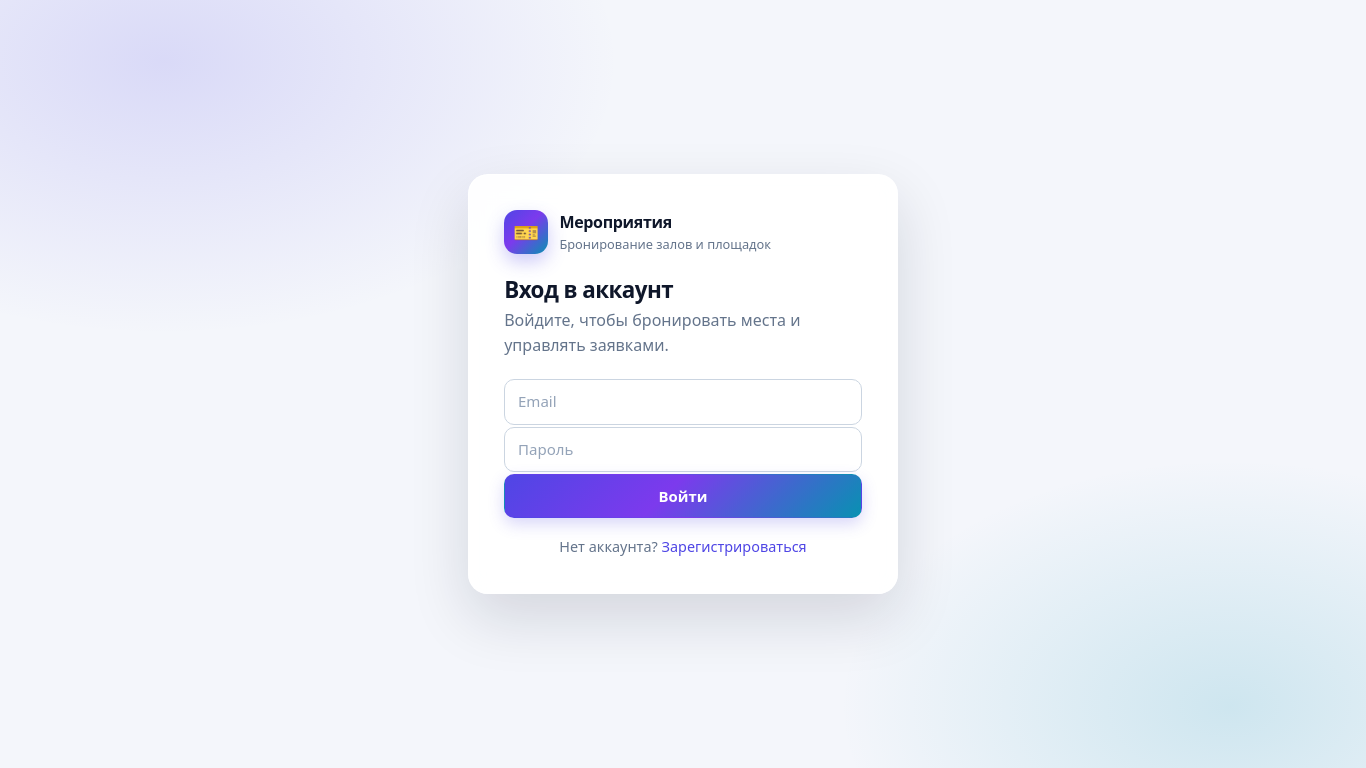
Login › показывает общую ошибку, если сервер не вернул detail
Type "client@example.com" into the field with placeholder "Email" at (683, 402), box [504,380,862,425]
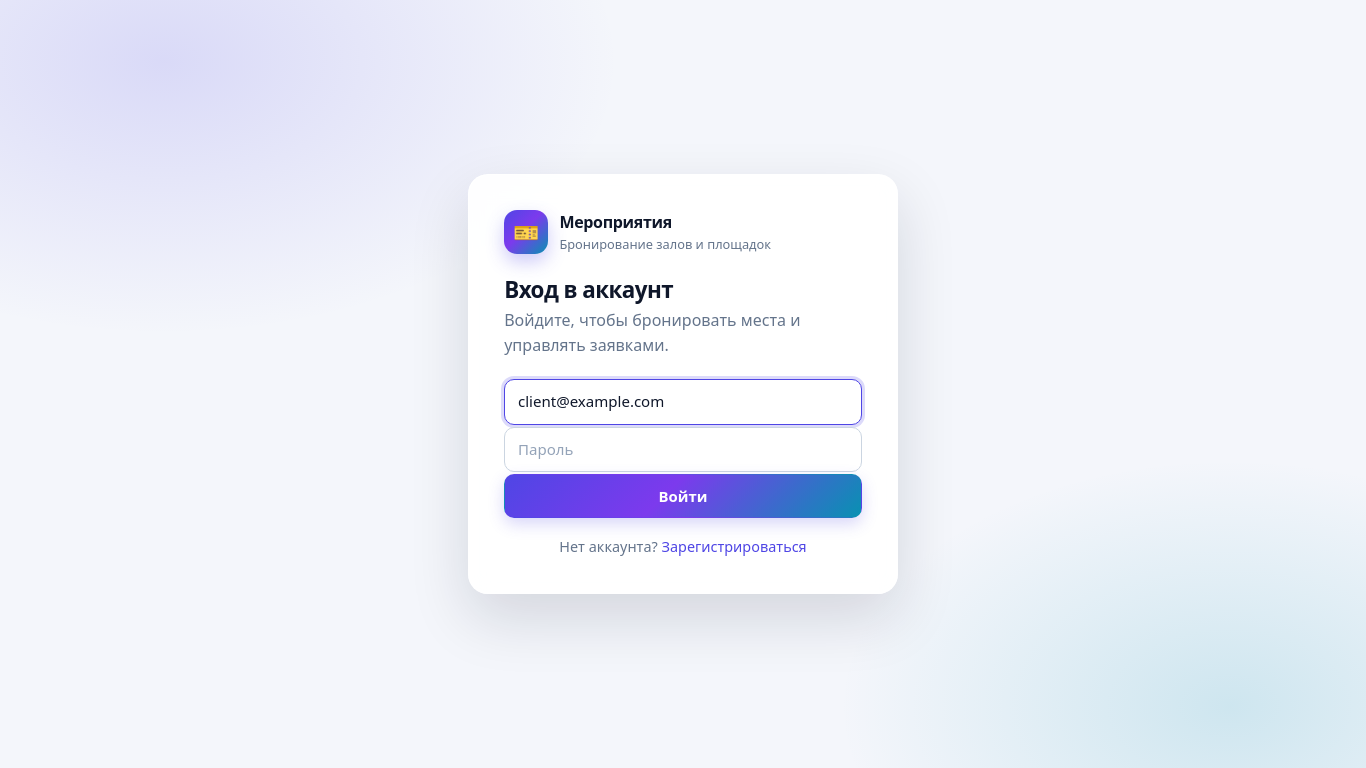
Type "ClientPass123!" into the password field with placeholder "Пароль" at (683, 450), box [504,427,862,472]
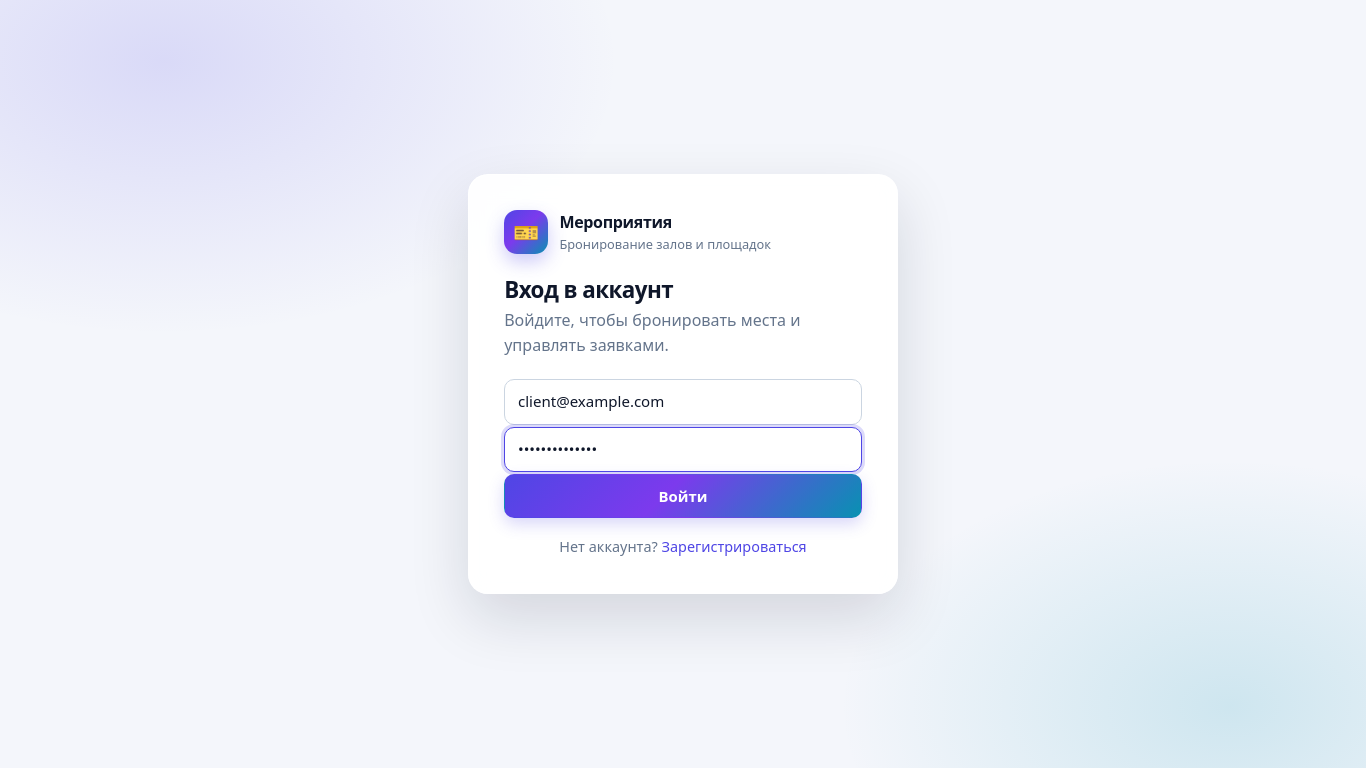
Click the button "Войти" at (683, 496), box [504,474,862,518]
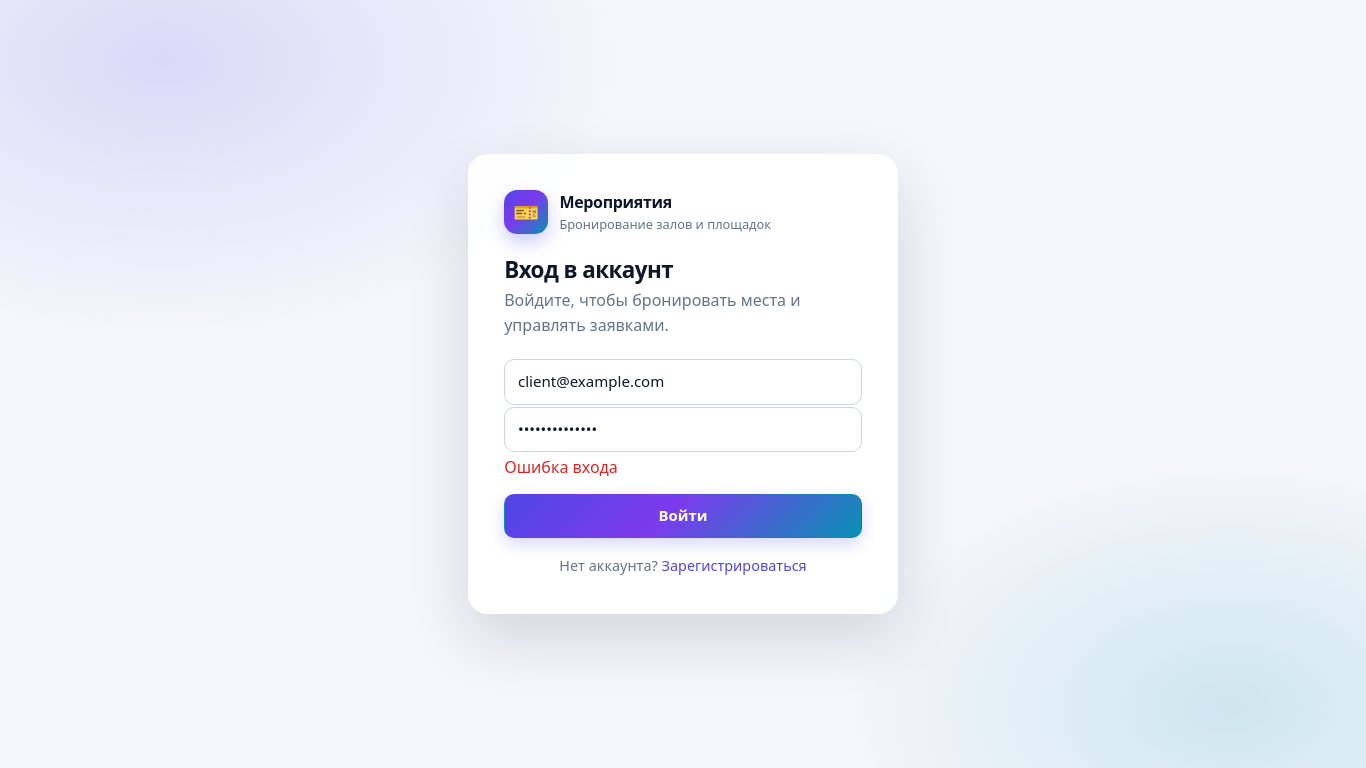
Expected: the text "Ошибка входа" is shown, [504,456,618,478]
